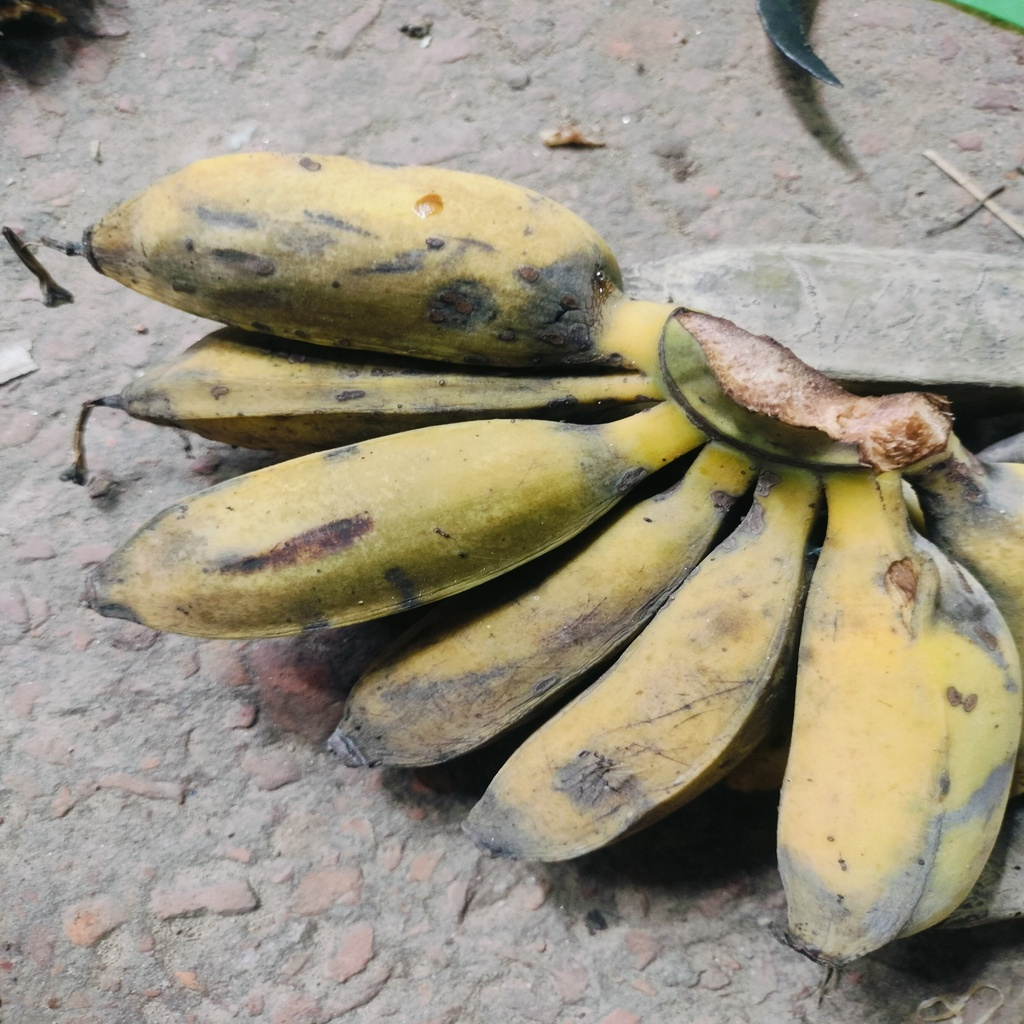unhealthy: (463, 514, 810, 861), (101, 419, 605, 643), (778, 519, 1020, 959), (90, 155, 622, 338)
